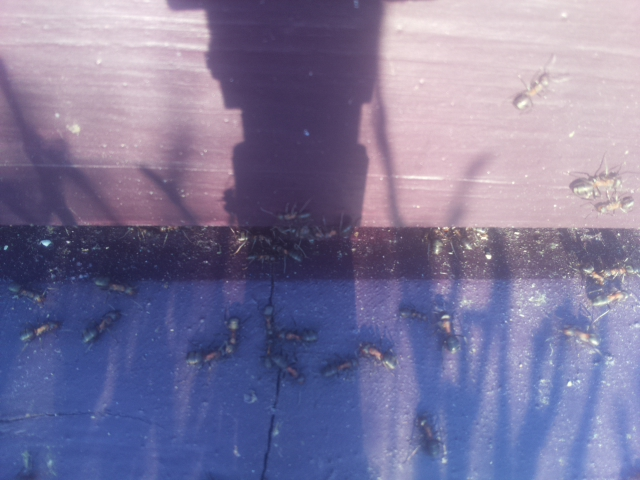ant: (188, 308, 249, 378), (408, 402, 454, 471), (506, 58, 557, 119), (74, 300, 128, 352), (566, 164, 629, 205), (432, 306, 467, 361), (350, 339, 405, 374), (260, 348, 309, 387), (0, 275, 51, 309), (82, 270, 137, 301), (12, 318, 65, 346), (594, 188, 638, 218), (280, 325, 322, 345)
